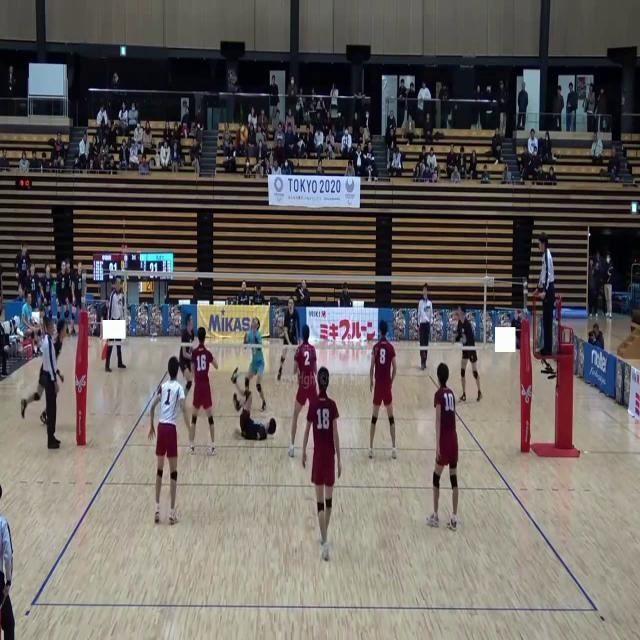volleyball: (240, 126, 248, 141)
